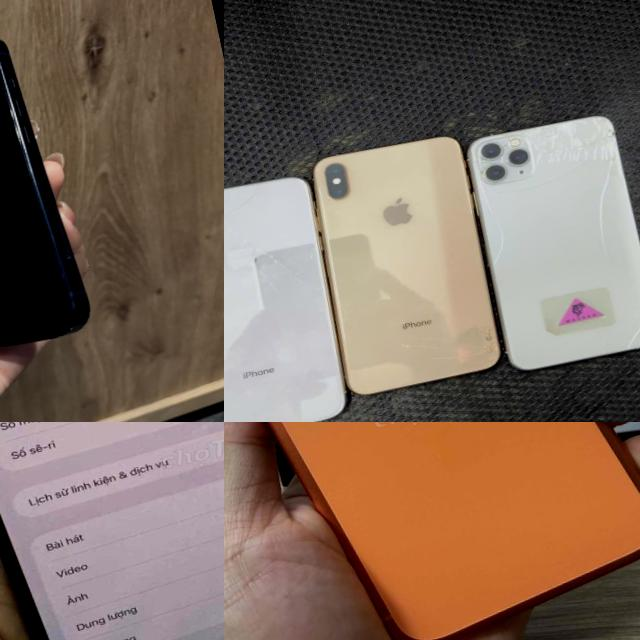gen_11: (463, 107, 640, 377)
gen_12_13: (0, 422, 224, 640), (0, 23, 105, 367)
gen_17: (224, 422, 640, 640)
gen_x_xs: (300, 128, 508, 399), (224, 170, 360, 422)
physical_damage: (230, 220, 322, 308), (398, 314, 502, 382), (530, 114, 620, 178), (473, 130, 538, 184), (590, 162, 632, 220), (592, 218, 634, 267), (478, 184, 516, 232), (241, 179, 285, 217), (224, 184, 248, 251), (606, 258, 640, 304), (488, 228, 524, 265), (621, 295, 640, 335), (617, 333, 640, 352)
